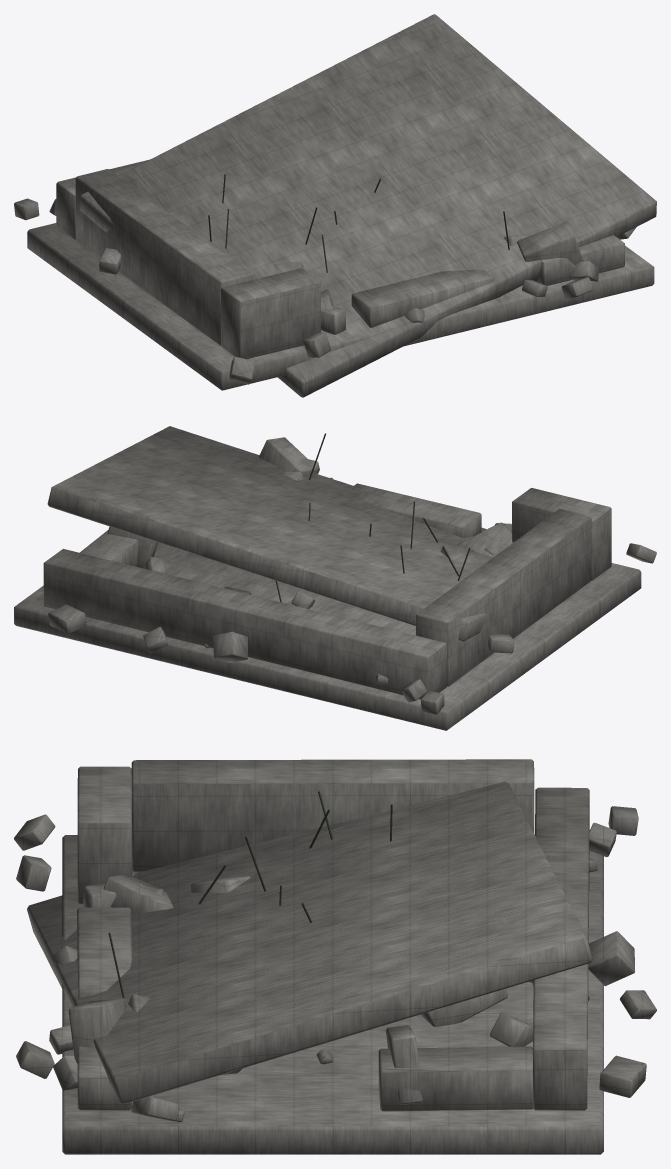
The model's file is SM_Bunker_Enemigo_Destruido.fbx.
3 renders of one model, top to bottom at view 1: azimuth 30°, elevation 25°; view 2: azimuth 150°, elevation 25°; view 3: azimuth 270°, elevation 25°, orthographic. The views are drawn at different scales.
Parts seen in each view (by area): view 1: SM_Bunker_Enemigo_Destruido; view 2: SM_Bunker_Enemigo_Destruido; view 3: SM_Bunker_Enemigo_Destruido.
Boxes of the visible parts, left/top/right/bottom form: SM_Bunker_Enemigo_Destruido: left=14, top=14, right=656, bottom=397; SM_Bunker_Enemigo_Destruido: left=14, top=426, right=656, bottom=730; SM_Bunker_Enemigo_Destruido: left=14, top=759, right=656, bottom=1154.
Size of what is drawn, in the model's own units: 9.52 by 8.31 by 3.16.
